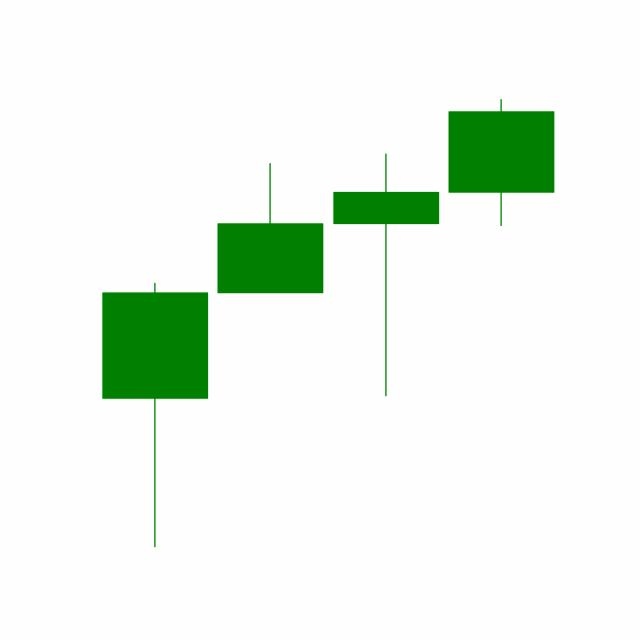Hammer: (328, 150, 444, 398)
